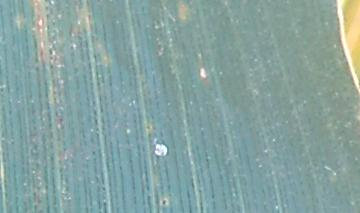tarspot: (160, 199, 168, 207), (144, 124, 153, 131)
